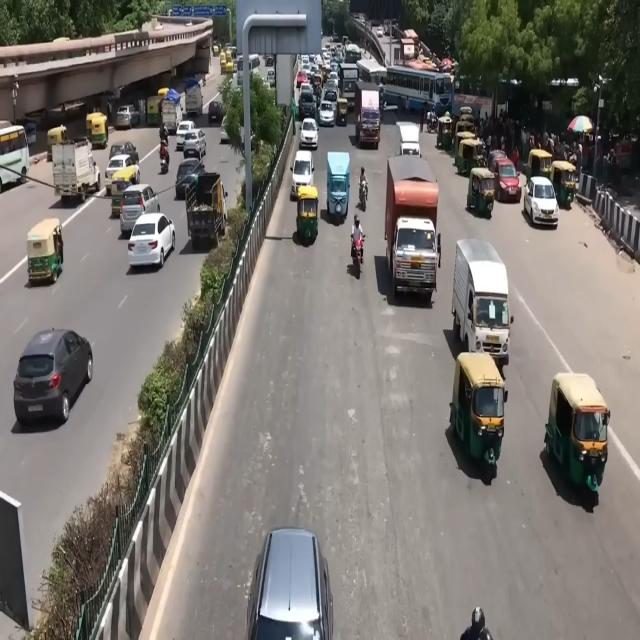auto: (546, 380, 612, 500), (449, 350, 506, 469), (26, 217, 64, 284), (326, 151, 350, 223), (466, 166, 496, 218), (550, 160, 578, 209), (296, 187, 319, 246), (456, 136, 486, 179), (493, 158, 521, 204), (526, 148, 553, 186), (396, 121, 420, 158), (85, 112, 108, 149), (47, 125, 68, 161), (146, 94, 165, 128), (438, 115, 453, 148), (336, 97, 348, 127), (225, 55, 234, 74), (212, 43, 220, 56)
bike-auto: (350, 231, 366, 277), (159, 141, 170, 173), (359, 177, 369, 211), (426, 112, 438, 133)
